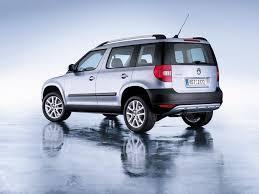skoda: (192, 67, 202, 75)
